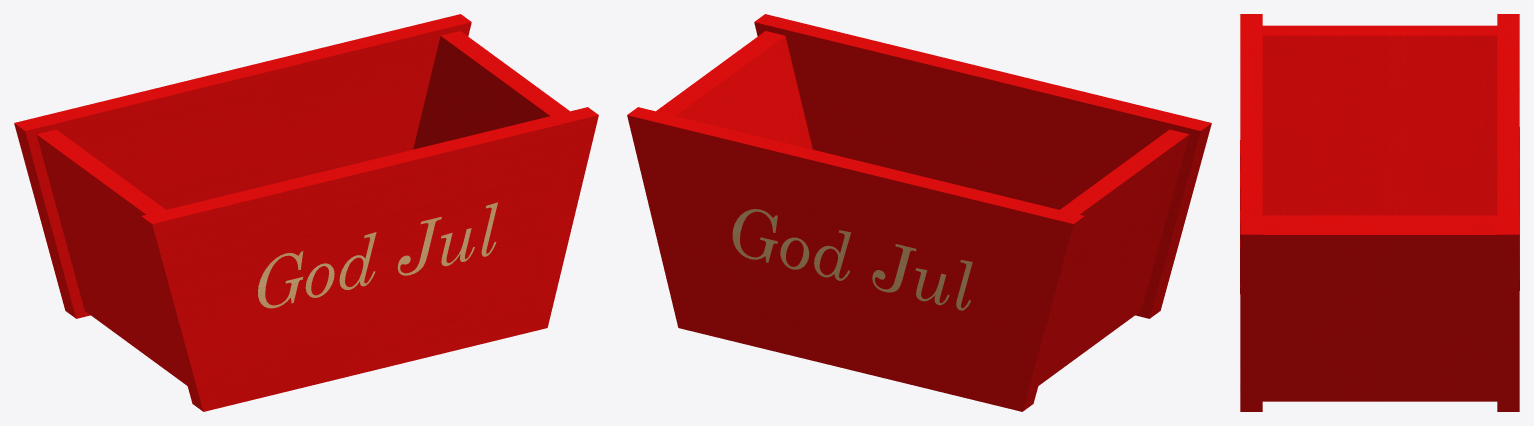
3 renders of one model, left to right at view 1: azimuth 30°, elevation 25°; view 2: azimuth 150°, elevation 25°; view 3: azimuth 270°, elevation 25°, orthographic.
Visible parts, largest first — view 1: Jullåda vägg 1-2, Jullåda vägg 1-1, Jullåda vägg 2-2, Jullåda vägg 2-1, Jullåda botten-1; view 2: Jullåda vägg 1-1, Jullåda vägg 1-2, Jullåda vägg 2-2, Jullåda vägg 2-1, Jullåda botten-1; view 3: Jullåda vägg 2-2, Jullåda vägg 2-1, Jullåda vägg 1-1, Jullåda vägg 1-2, Jullåda botten-1.
Boxes of the visible parts, left/top/right/bottom form: Jullåda vägg 1-2: left=141, top=107, right=598, bottom=411; Jullåda vägg 1-1: left=14, top=14, right=471, bottom=318; Jullåda vägg 2-2: left=36, top=129, right=224, bottom=385; Jullåda vägg 2-1: left=413, top=31, right=570, bottom=300; Jullåda botten-1: left=286, top=310, right=465, bottom=363; Jullåda vägg 1-1: left=627, top=107, right=1084, bottom=411; Jullåda vägg 1-2: left=754, top=14, right=1211, bottom=318; Jullåda vägg 2-2: left=1001, top=129, right=1189, bottom=385; Jullåda vägg 2-1: left=655, top=31, right=812, bottom=300; Jullåda botten-1: left=760, top=310, right=939, bottom=363; Jullåda vägg 2-2: left=1262, top=25, right=1497, bottom=215; Jullåda vägg 2-1: left=1262, top=225, right=1497, bottom=401; Jullåda vägg 1-1: left=1497, top=14, right=1519, bottom=411; Jullåda vägg 1-2: left=1240, top=14, right=1262, bottom=411; Jullåda botten-1: left=1262, top=215, right=1497, bottom=225.
Bounding box in the file's own units: 0.28 × 0.12 × 0.1502.
4 materials, 4 textured.
